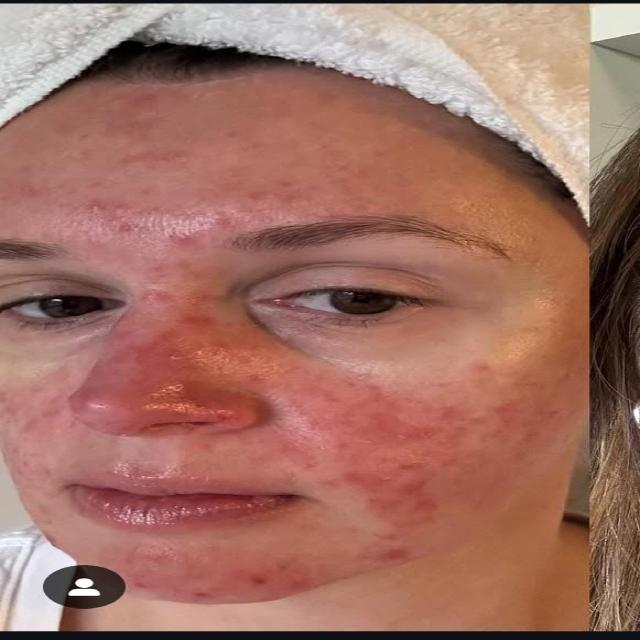Rosacea: (249, 336, 559, 520), (23, 86, 379, 222), (76, 234, 253, 433), (85, 546, 360, 605), (0, 366, 74, 496)
